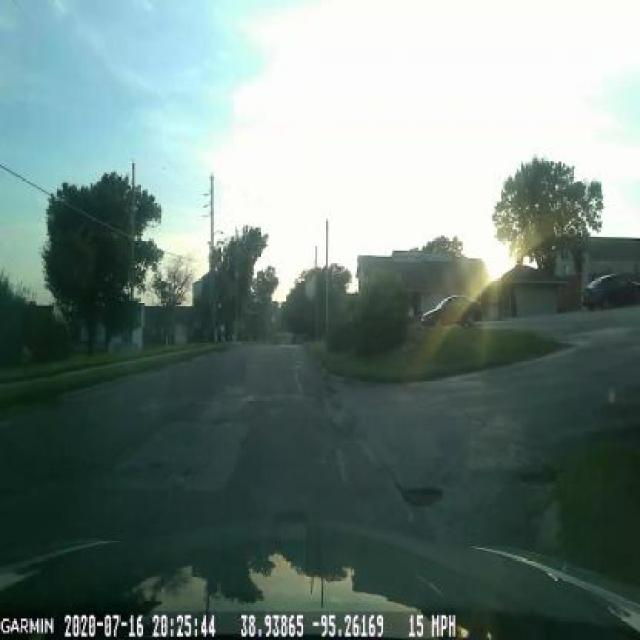Pothole: (386, 469, 451, 518), (512, 454, 562, 497)
